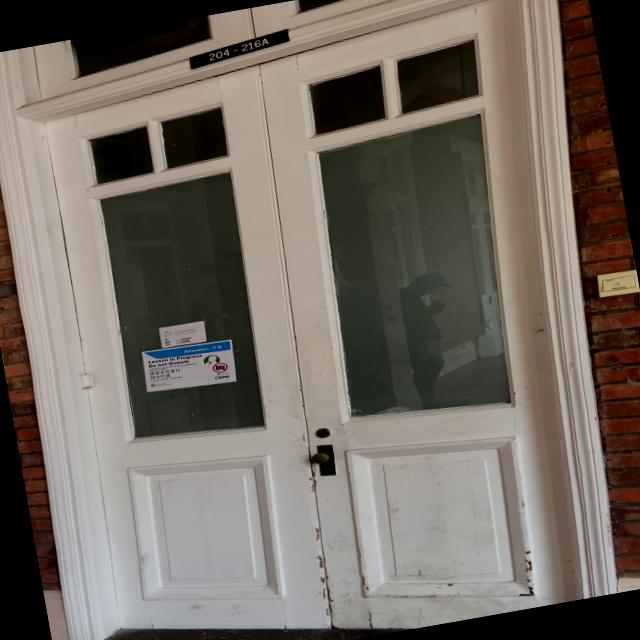room204: (187, 25, 296, 72)
